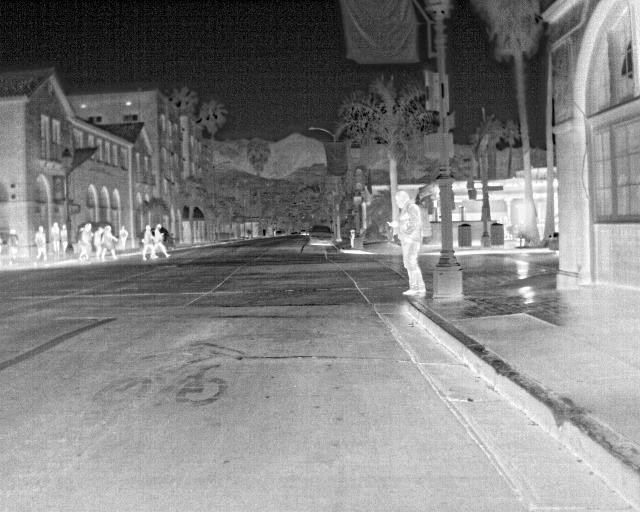bicycle: (306, 223, 336, 249)
empty: (387, 189, 429, 296), (149, 223, 170, 260), (101, 224, 120, 259), (77, 224, 93, 262), (33, 224, 49, 262), (58, 222, 72, 259), (141, 224, 154, 263), (47, 222, 62, 253), (120, 224, 129, 251)
